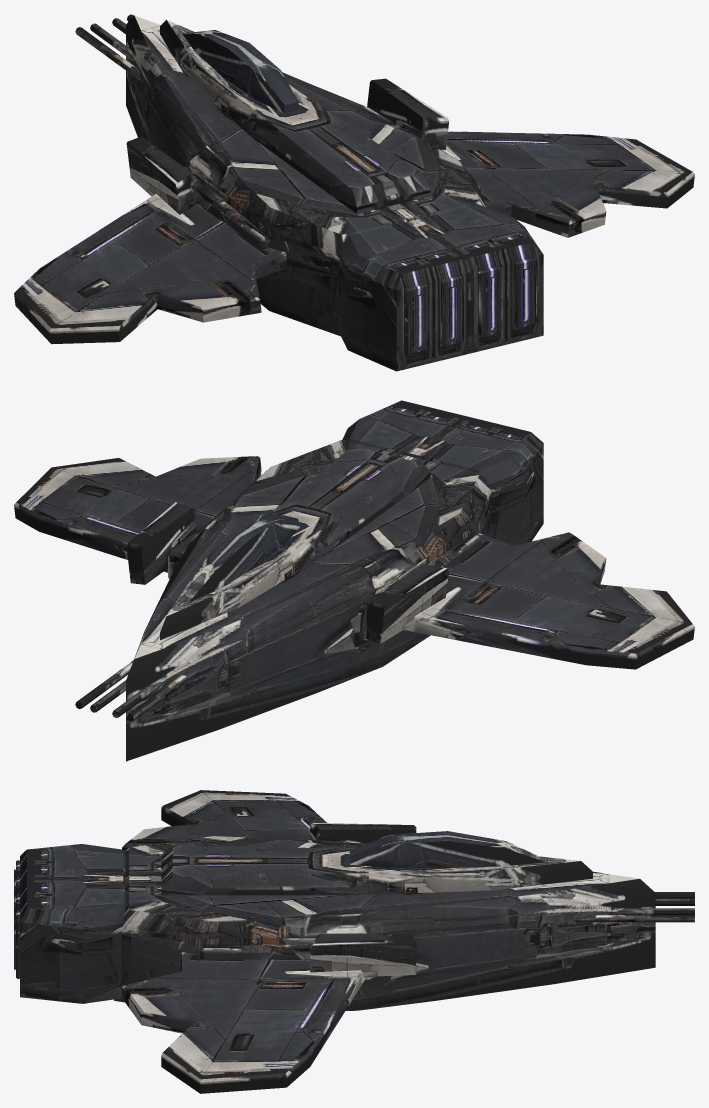
File: spectre-c.glb
3 views of the same model, one above another, from view 1: azimuth 30°, elevation 25°; view 2: azimuth 150°, elevation 25°; view 3: azimuth 270°, elevation 25° (orthographic). The views are drawn at different scales.
Parts seen in each view (by area): view 1: hero_spectre_wings_c, hero_spectre_hull_c, hero_spectre_engines_c, hero_spectre_cockpit_c; view 2: hero_spectre_hull_c, hero_spectre_wings_c, hero_spectre_engines_c, hero_spectre_cockpit_c; view 3: hero_spectre_hull_c, hero_spectre_wings_c, hero_spectre_engines_c, hero_spectre_cockpit_c.
Boxes of the visible parts, x1,y1,x2,y2 form: hero_spectre_wings_c: (14, 78, 694, 344); hero_spectre_hull_c: (75, 14, 486, 336); hero_spectre_engines_c: (338, 204, 543, 371); hero_spectre_cockpit_c: (183, 30, 299, 113); hero_spectre_hull_c: (75, 440, 491, 761); hero_spectre_wings_c: (14, 456, 694, 669); hero_spectre_engines_c: (342, 400, 543, 545); hero_spectre_cockpit_c: (183, 514, 299, 602); hero_spectre_hull_c: (114, 836, 694, 1010); hero_spectre_wings_c: (122, 790, 416, 1093); hero_spectre_engines_c: (14, 844, 125, 1003); hero_spectre_cockpit_c: (349, 831, 545, 868).
Size of the model in its own units: 1.75 by 0.37 by 1.73.
1 material, 1 textured.
